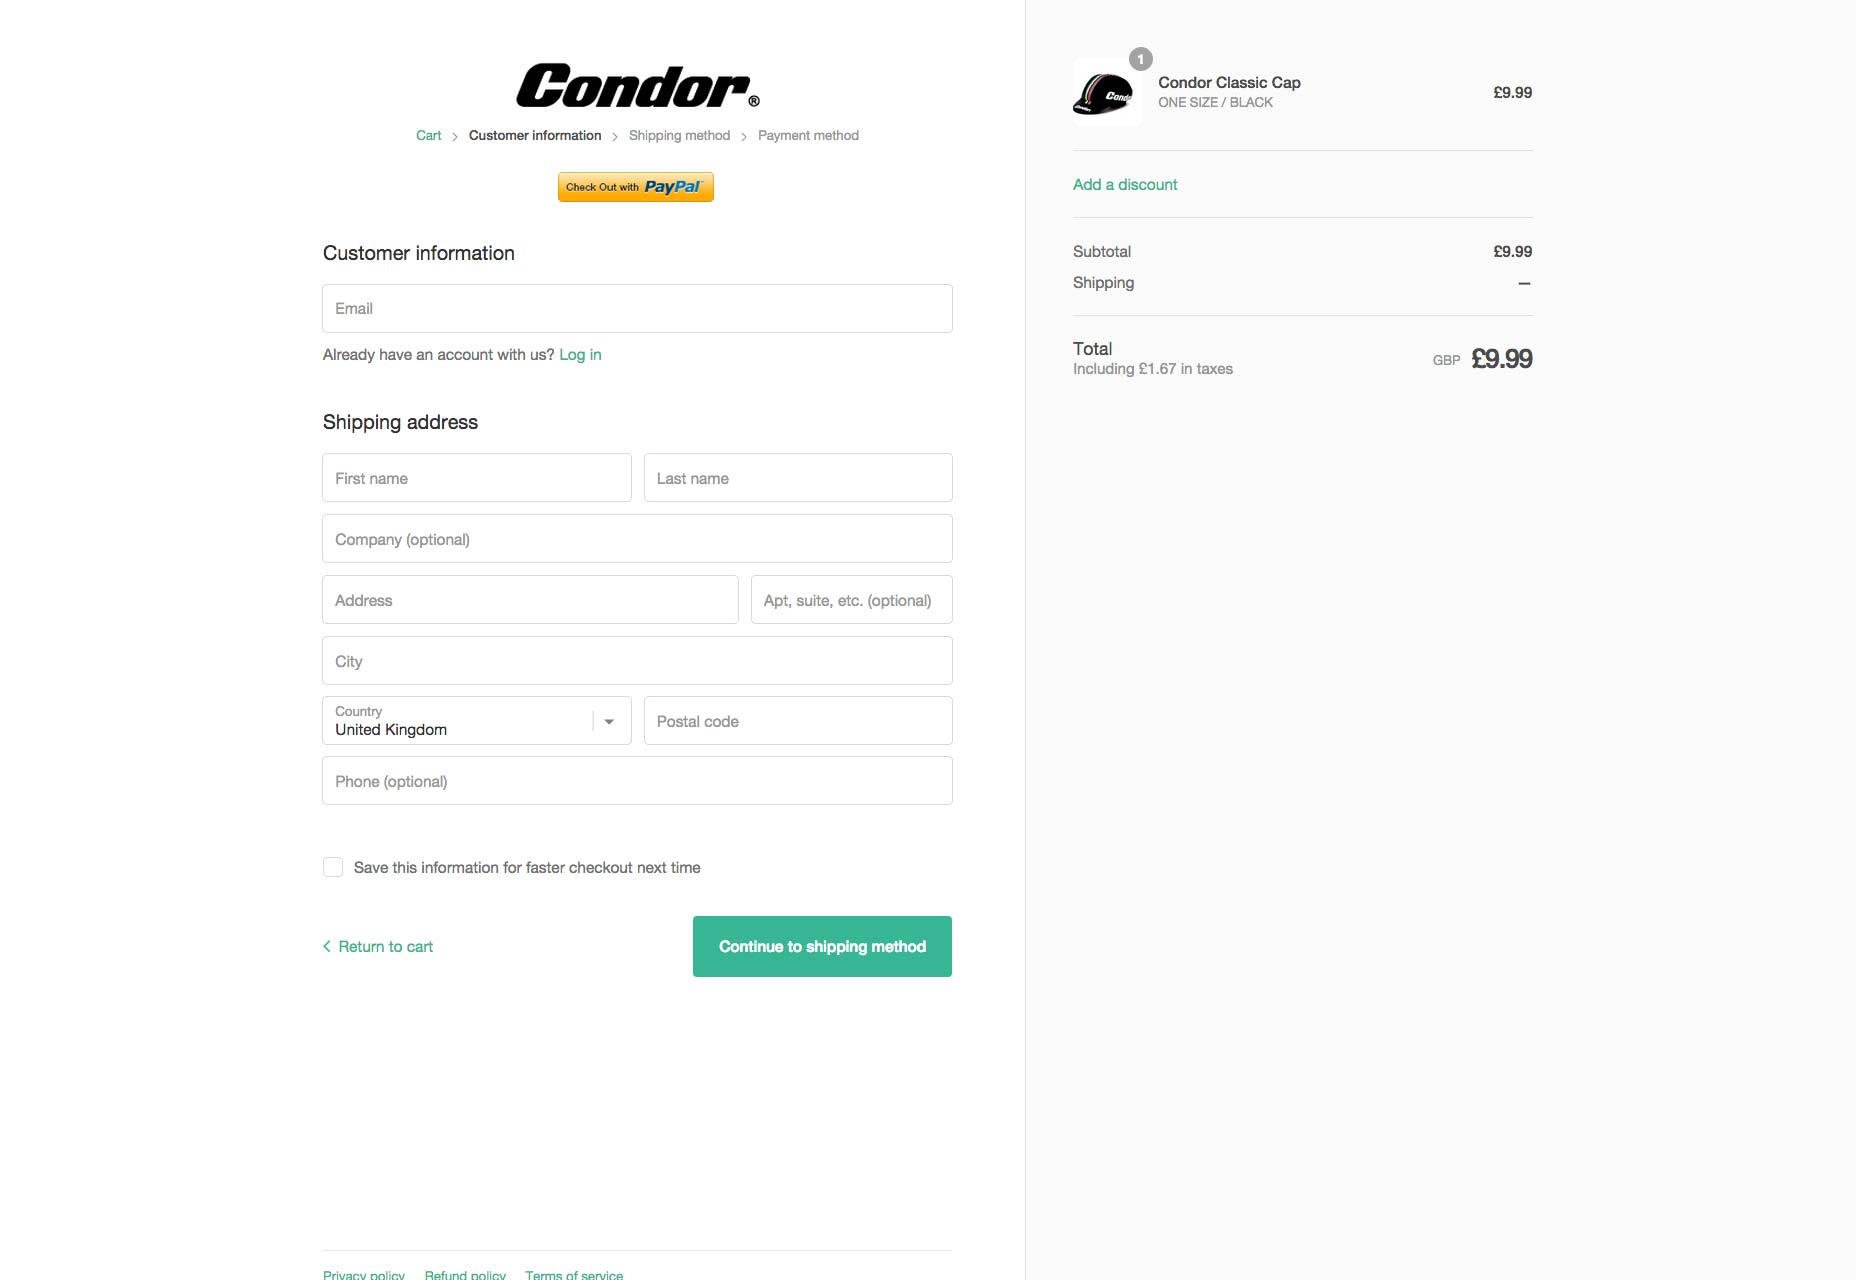_form_: (315, 230, 967, 633), (310, 613, 963, 1016)
button: (692, 915, 952, 978), (557, 171, 716, 203)
checkbox: (322, 856, 346, 880)
checkbox_with_label: (313, 851, 709, 884)
field: (320, 634, 955, 687), (322, 282, 956, 333), (322, 756, 953, 806), (322, 513, 955, 562), (320, 575, 740, 624), (645, 451, 952, 505), (322, 451, 630, 503), (643, 695, 955, 744), (749, 574, 953, 624)
select: (322, 694, 630, 744)
